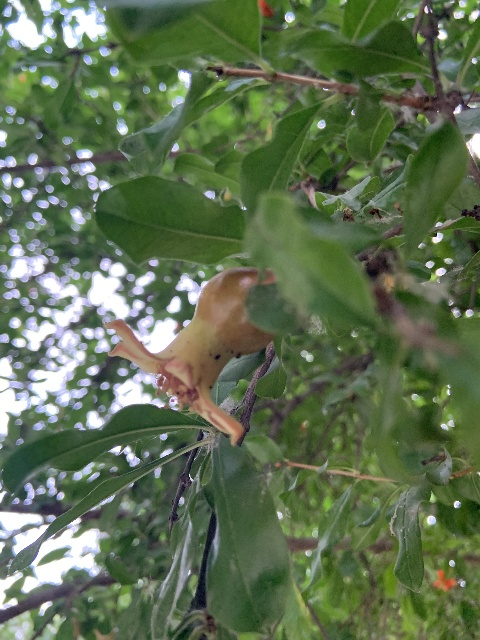early-fruit: (104, 266, 275, 447)
